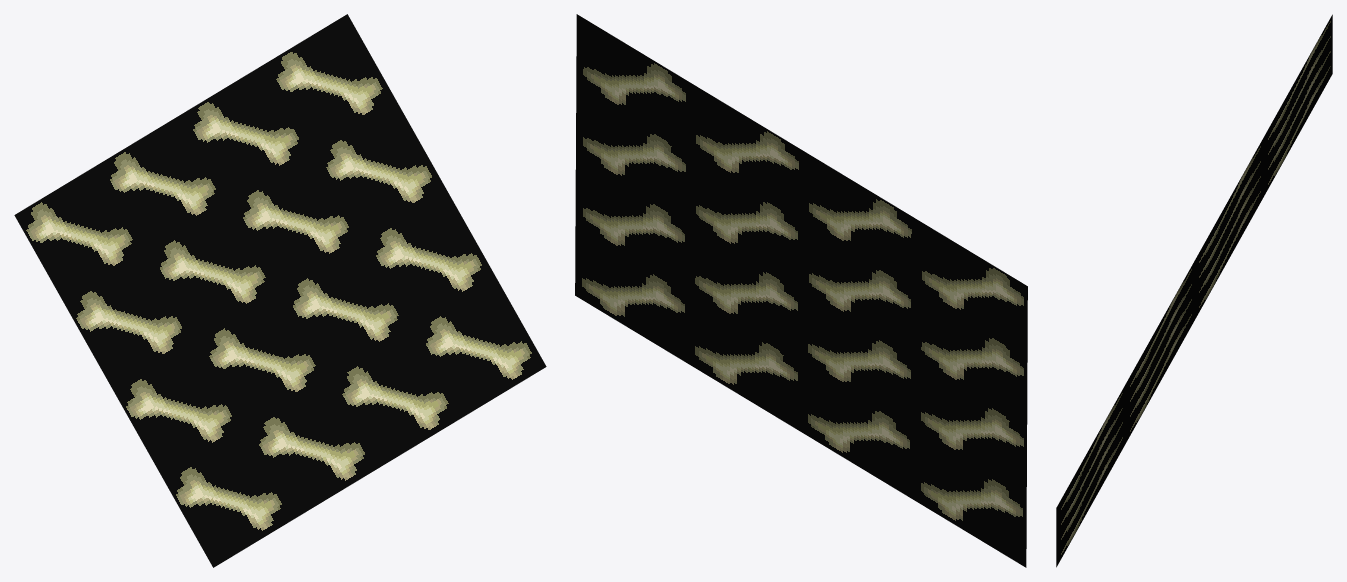
File: 0658icon_kaseki.gltf
3 renders of one model, left to right at view 1: azimuth 30°, elevation 25°; view 2: azimuth 150°, elevation 25°; view 3: azimuth 270°, elevation 25°, orthographic. The views are drawn at different scales.
Visible parts, largest first — view 1: 0658icon_kaseki; view 2: 0658icon_kaseki; view 3: 0658icon_kaseki.
Part boxes in pixels (x1=…): 0658icon_kaseki: x1=14, y1=14, x2=546, y2=567; 0658icon_kaseki: x1=575, y1=14, x2=1027, y2=567; 0658icon_kaseki: x1=1056, y1=14, x2=1332, y2=567.
Bounding box in the file's own units: 0.9792 × 0.917 × 0.3872.
1 material, 1 textured.
